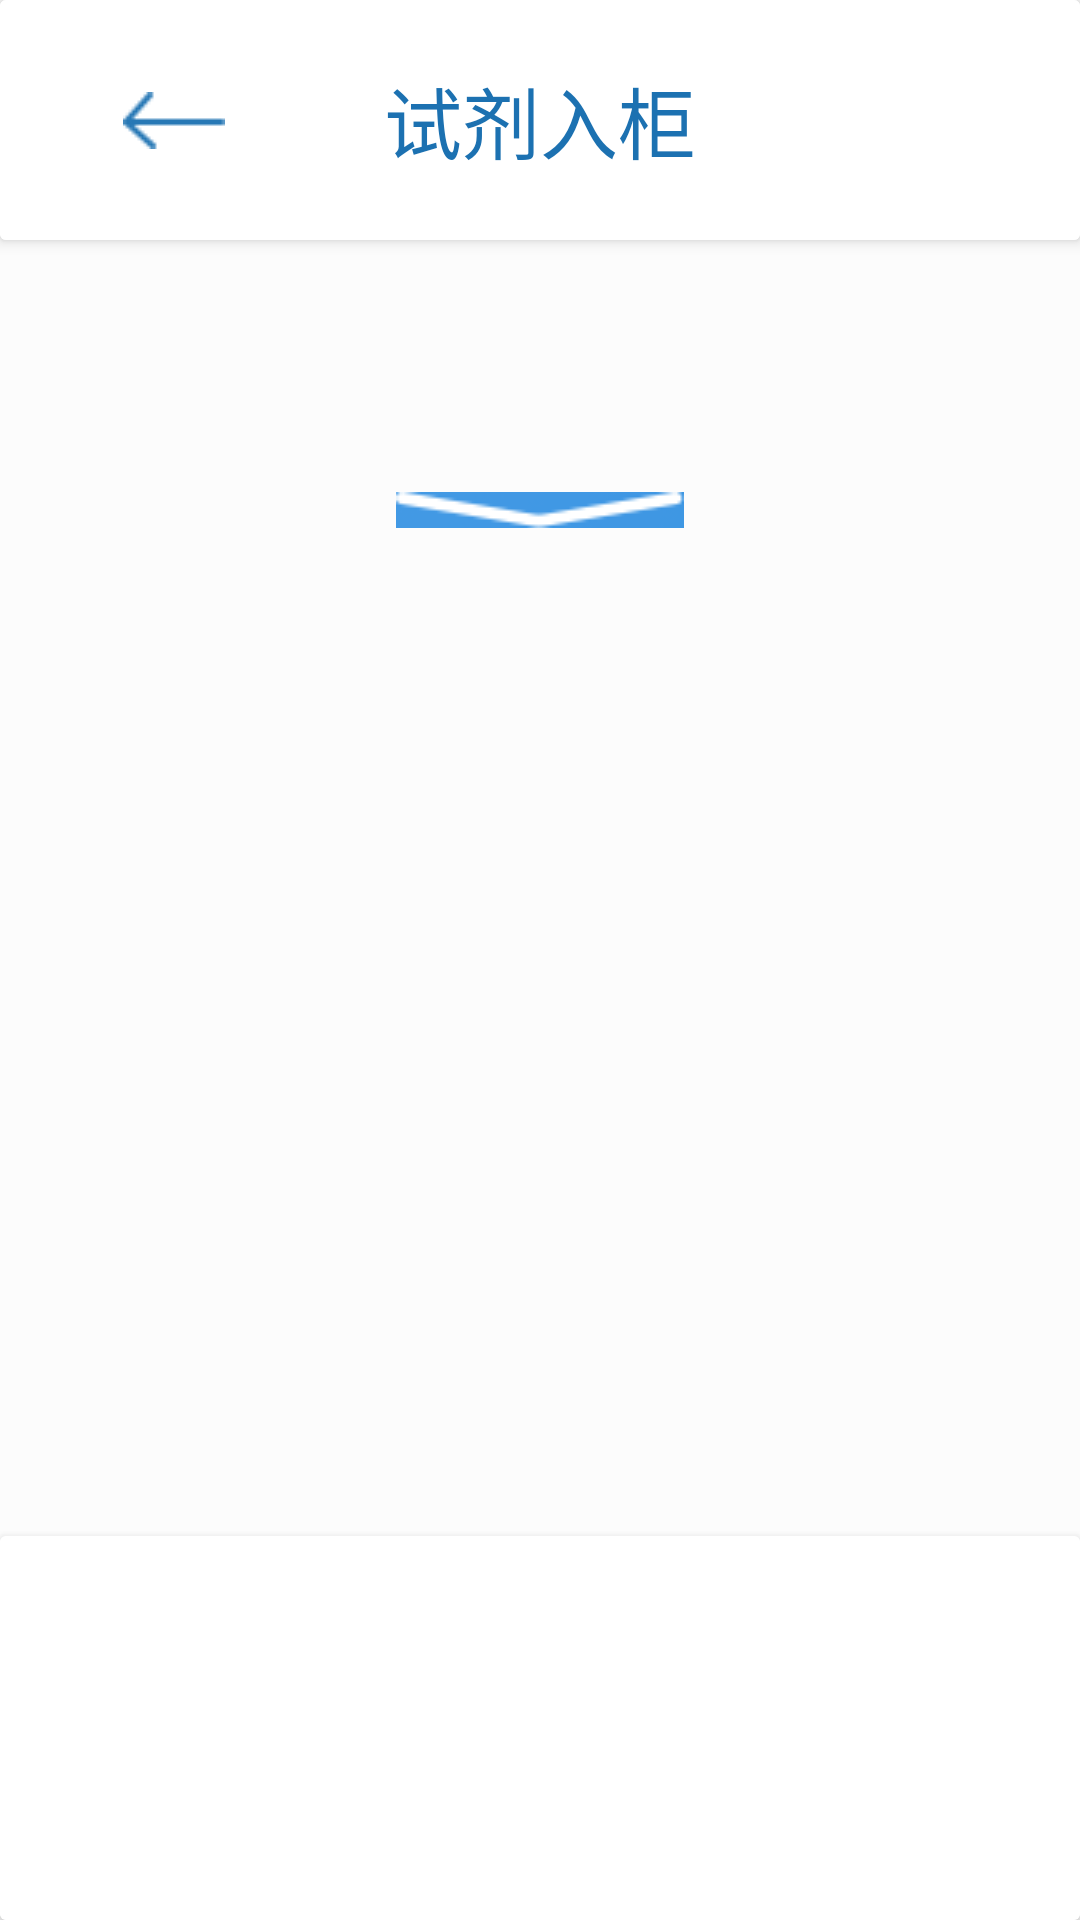

Icon bounding boxes for this 1080px×1920px phone screenshot, format bbox=(x1, y1, x2, y2):
back style: bbox=(123, 92, 225, 149)
